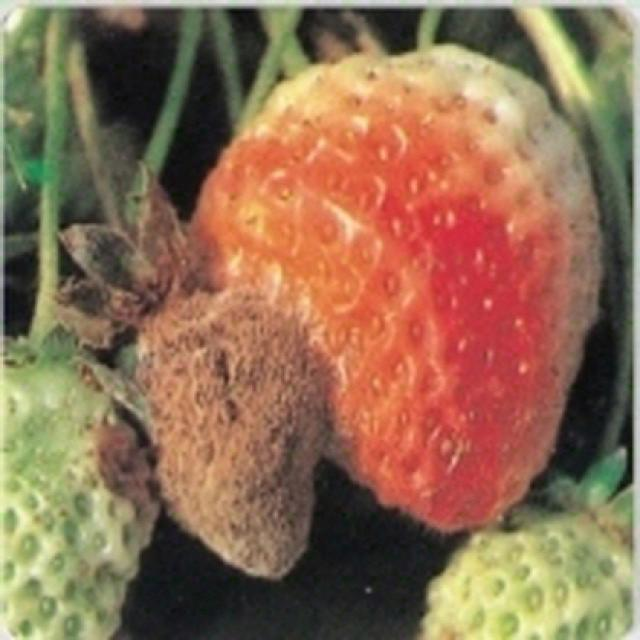Gray Mold: (48, 163, 337, 581)
